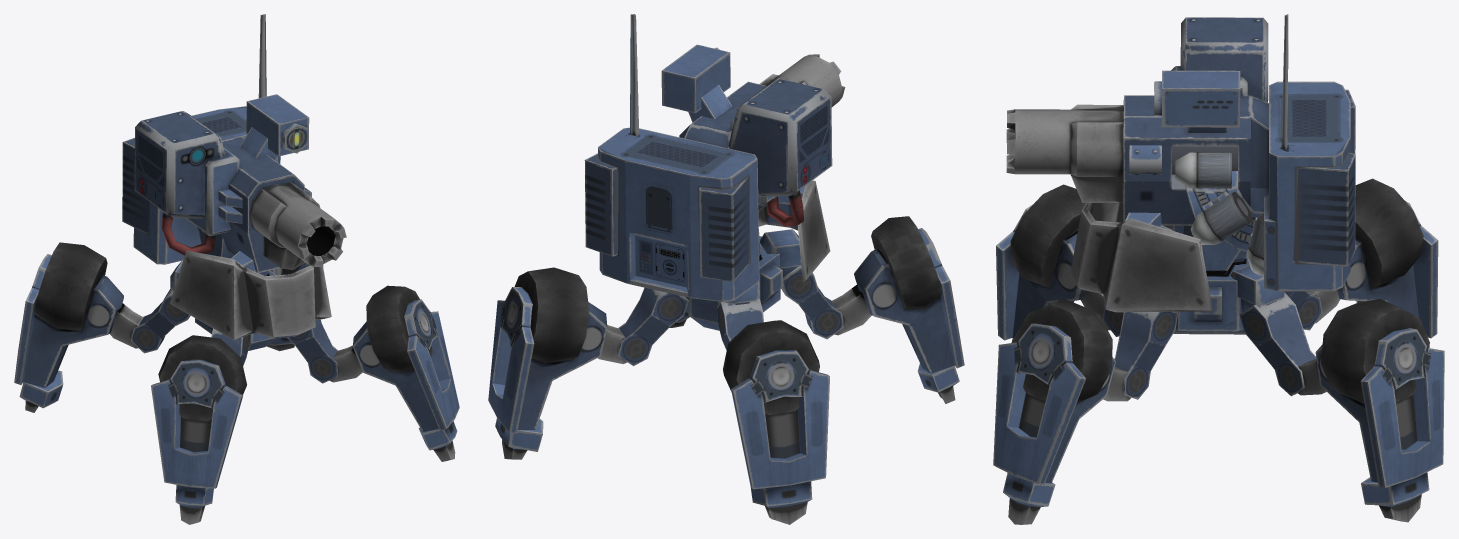
Rendered from teki2.FBX.
3 views of the same model, side by side, from view 1: azimuth 30°, elevation 25°; view 2: azimuth 150°, elevation 25°; view 3: azimuth 270°, elevation 25° (orthographic). The views are drawn at different scales.
Visible parts, largest first — view 1: head, Dummy002, Dummy001, Dummy004, gun001, weel004, weel002, weel003, Bone013, Bone005, Bone006, Bone014 (+2 smaller); view 2: head, Dummy004, Dummy003, Dummy002, weel1, weel003, weel004, base, Bone001, Bone009, gun001, Bone005 (+2 smaller); view 3: head, Dummy003, Dummy001, gun001, weel1, weel004, weel002, weel003, Dummy004, Dummy002, Bone001, base (+7 smaller).
Part boxes in pixels (<box>): head: <box>122,14,331,339</box>; Dummy002: <box>151,360,243,524</box>; Dummy001: <box>353,299,459,461</box>; Dummy004: <box>14,254,123,412</box>; gun001: <box>249,182,346,269</box>; weel004: <box>34,242,107,330</box>; weel002: <box>366,285,432,372</box>; weel003: <box>158,335,246,421</box>; Bone013: <box>287,319,338,383</box>; Bone005: <box>130,289,190,353</box>; Bone006: <box>110,303,143,348</box>; Bone014: <box>329,345,362,382</box>; head: <box>584,14,832,301</box>; Dummy004: <box>731,350,829,524</box>; Dummy003: <box>488,287,607,459</box>; Dummy002: <box>854,228,964,403</box>; weel1: <box>510,267,589,363</box>; weel003: <box>871,216,941,310</box>; weel004: <box>723,320,819,415</box>; base: <box>686,229,801,330</box>; Bone001: <box>618,287,688,366</box>; Bone009: <box>781,266,843,339</box>; gun001: <box>759,54,845,107</box>; Bone005: <box>716,298,763,349</box>; head: <box>1070,14,1355,312</box>; Dummy003: <box>1315,328,1444,522</box>; Dummy001: <box>993,323,1115,524</box>; gun001: <box>1006,104,1123,202</box>; weel1: <box>1321,299,1429,403</box>; weel004: <box>1355,178,1423,288</box>; weel002: <box>1013,298,1112,402</box>; weel003: <box>1010,184,1085,287</box>; Dummy004: <box>1337,201,1438,338</box>; Dummy002: <box>996,204,1085,342</box>; Bone001: <box>1239,292,1316,396</box>; base: <box>1160,225,1284,334</box>.
Bounding box in the file's own units: 45.53 × 47.98 × 55.14.
Materials: 1 (1 with a texture image).
